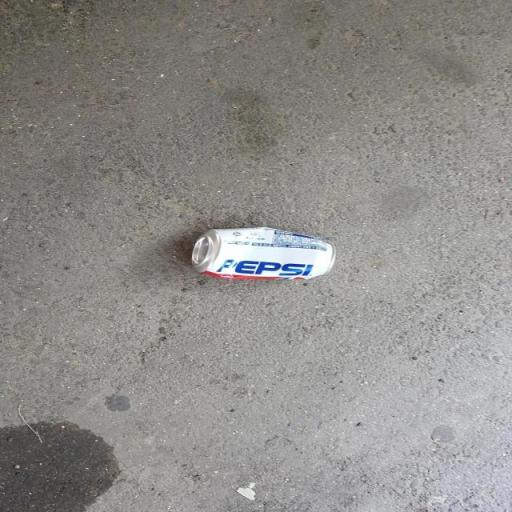metal: (106, 206, 378, 292)
